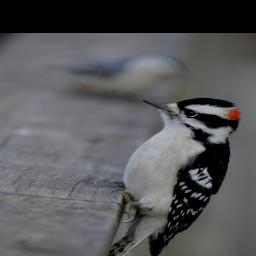Woodpecker: (102, 89, 255, 256)
